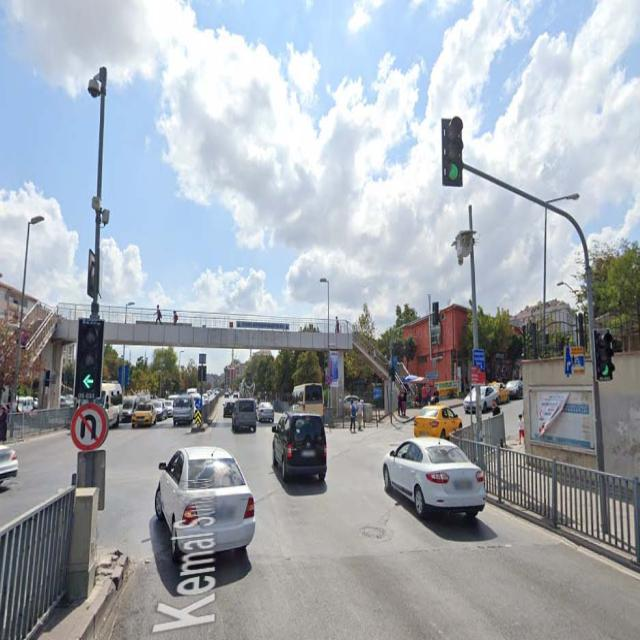yesil: (77, 318, 102, 398), (440, 117, 464, 188), (593, 327, 614, 382)
